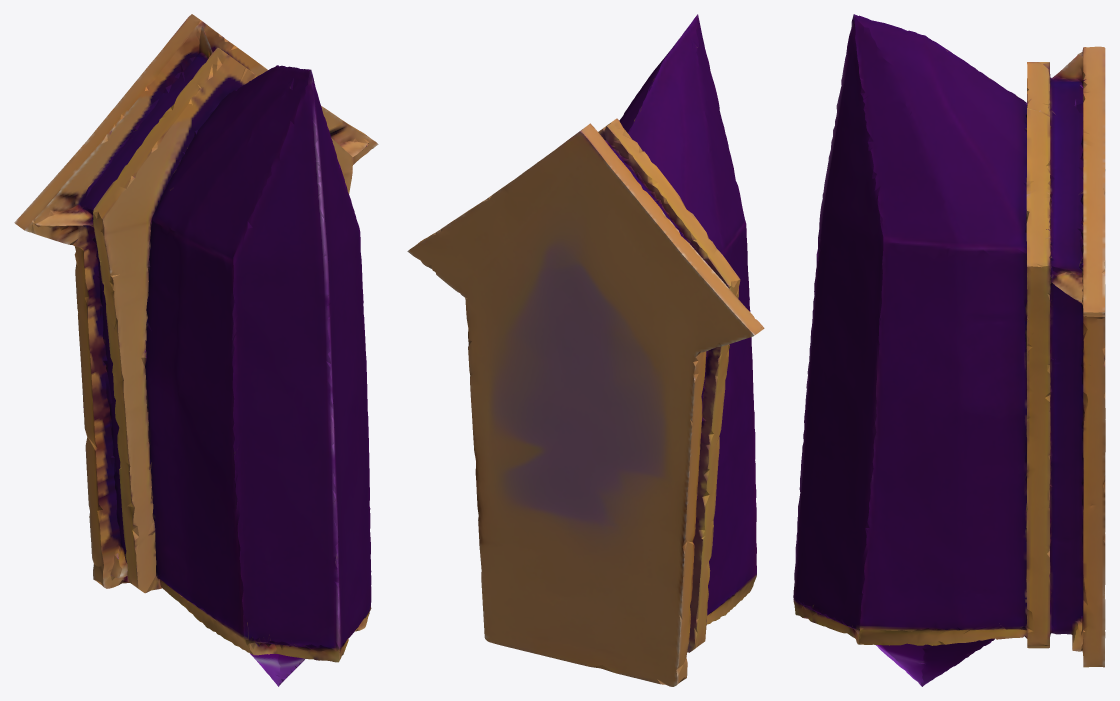
Rendered from Station_Ascension.glb.
3 views of the same model, side by side, from view 1: azimuth 30°, elevation 25°; view 2: azimuth 150°, elevation 25°; view 3: azimuth 270°, elevation 25° (orthographic). The views are drawn at different scales.
Parts seen in each view (by area): view 1: Station_Ascension; view 2: Station_Ascension; view 3: Station_Ascension.
Part boxes in pixels (x1,y1,x2,y2): Station_Ascension: [14, 14, 378, 686]; Station_Ascension: [407, 14, 764, 686]; Station_Ascension: [793, 14, 1105, 686].
Size of the model in its own units: 0.9832 by 1.7 by 0.7145.
Materials: 1 (1 with a texture image).
